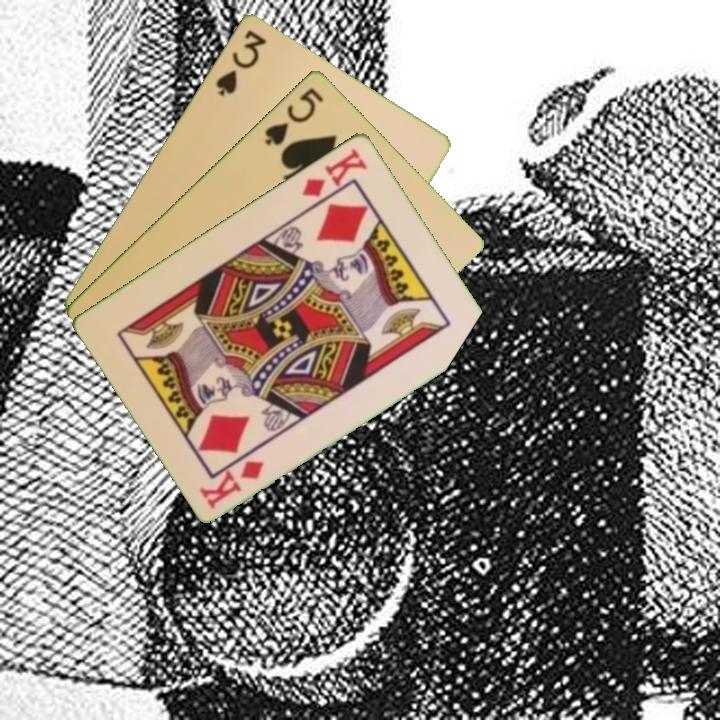3s: (211, 25, 270, 99)
5s: (261, 83, 327, 149)
Kd: (298, 143, 370, 200), (196, 456, 267, 511)
